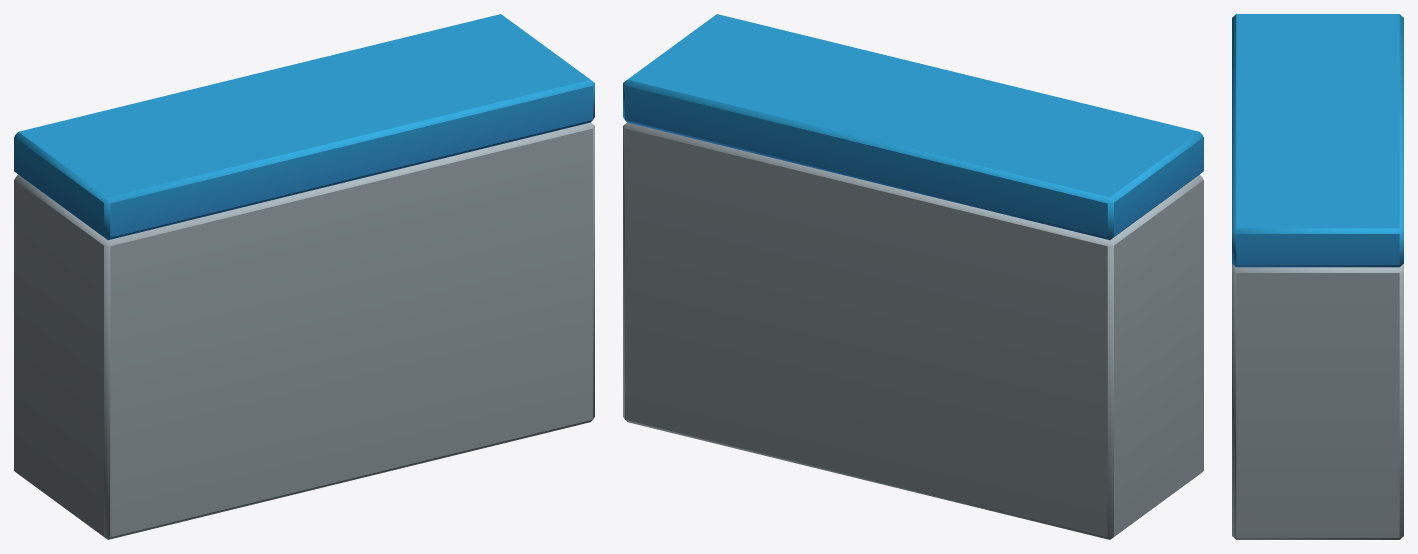
File: platform_6x2x4_blue.glb
3 views of the same model, side by side, from view 1: azimuth 30°, elevation 25°; view 2: azimuth 150°, elevation 25°; view 3: azimuth 270°, elevation 25° (orthographic). The views are drawn at different scales.
Visible parts, largest first — view 1: platform_6x2x4_blue; view 2: platform_6x2x4_blue; view 3: platform_6x2x4_blue.
Part boxes in pixels (box(x1,y1,x2,y2)): platform_6x2x4_blue: box(14, 14, 594, 539); platform_6x2x4_blue: box(623, 14, 1203, 539); platform_6x2x4_blue: box(1232, 14, 1403, 539).
Size of the model in its own units: 6 by 4 by 2.
Materials: 1 (1 with a texture image).
